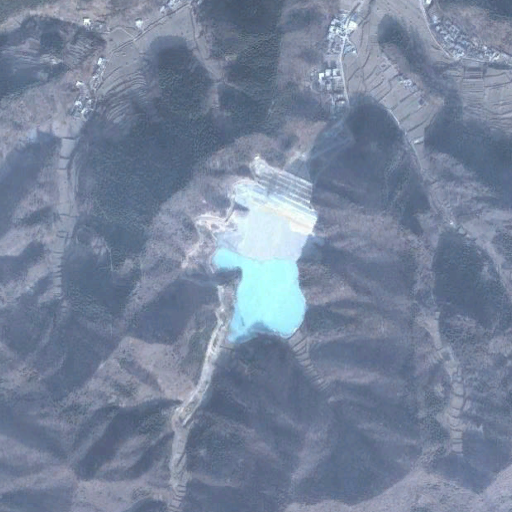tp: (205, 157, 317, 346)
